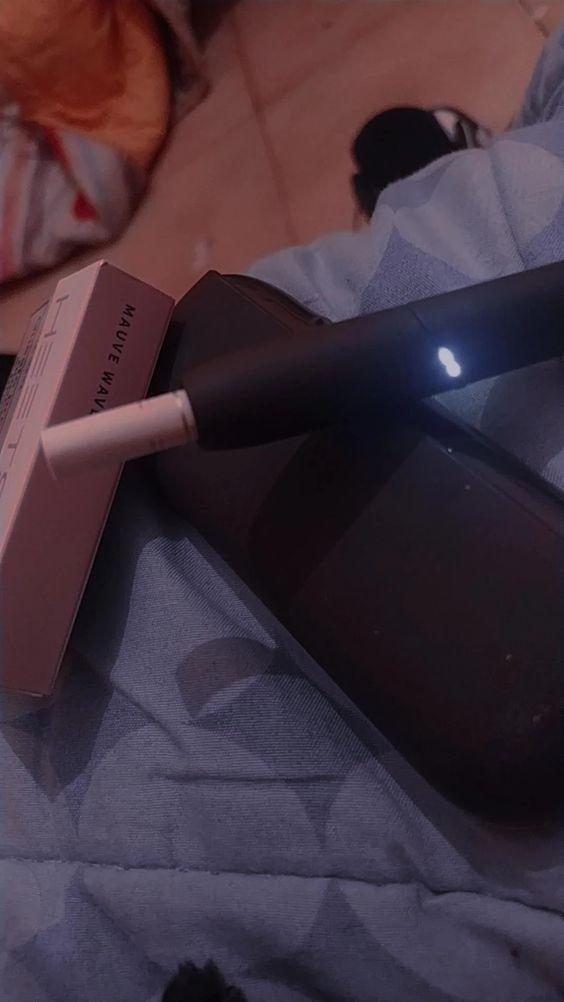iqos: (40, 263, 563, 472)
